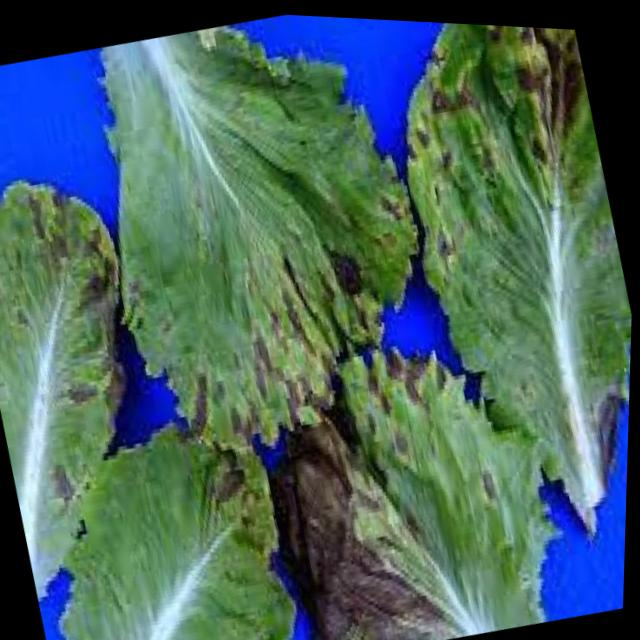Bad: (105, 26, 416, 447), (408, 23, 632, 510), (259, 347, 552, 640), (0, 180, 127, 595), (60, 429, 295, 640)
